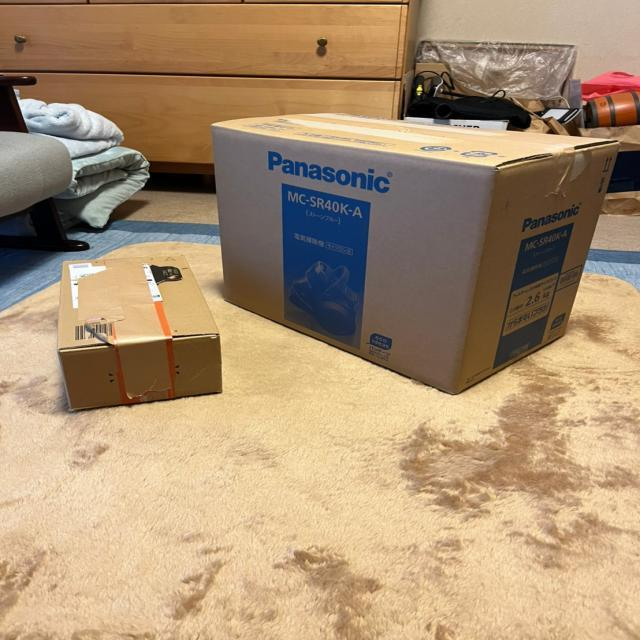box: (205, 108, 628, 398), (49, 248, 232, 418)
